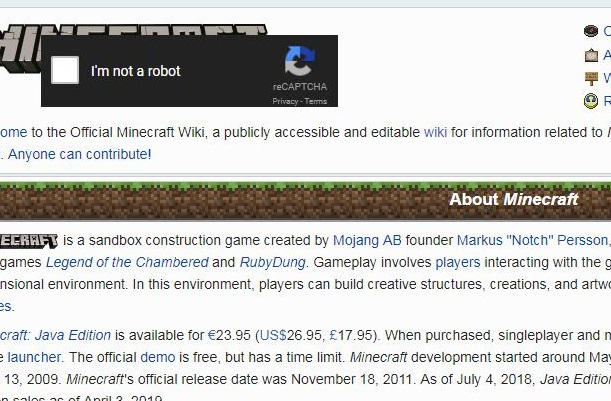captcha: (50, 55, 181, 84)
